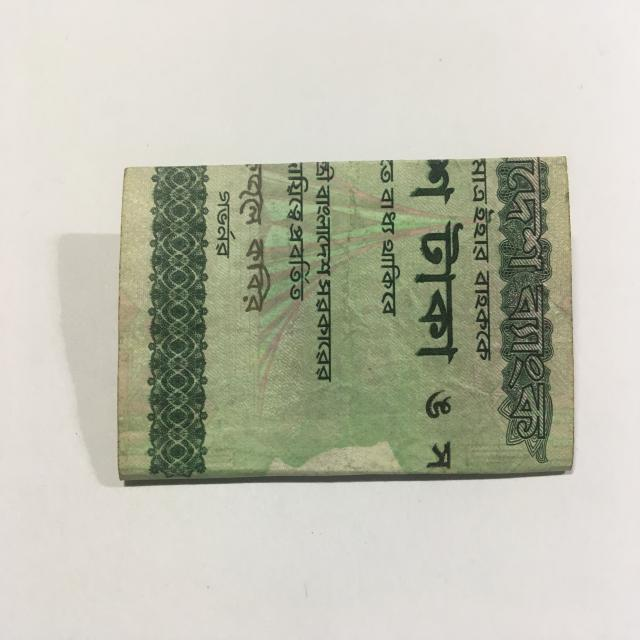Taka: (105, 157, 580, 492)
